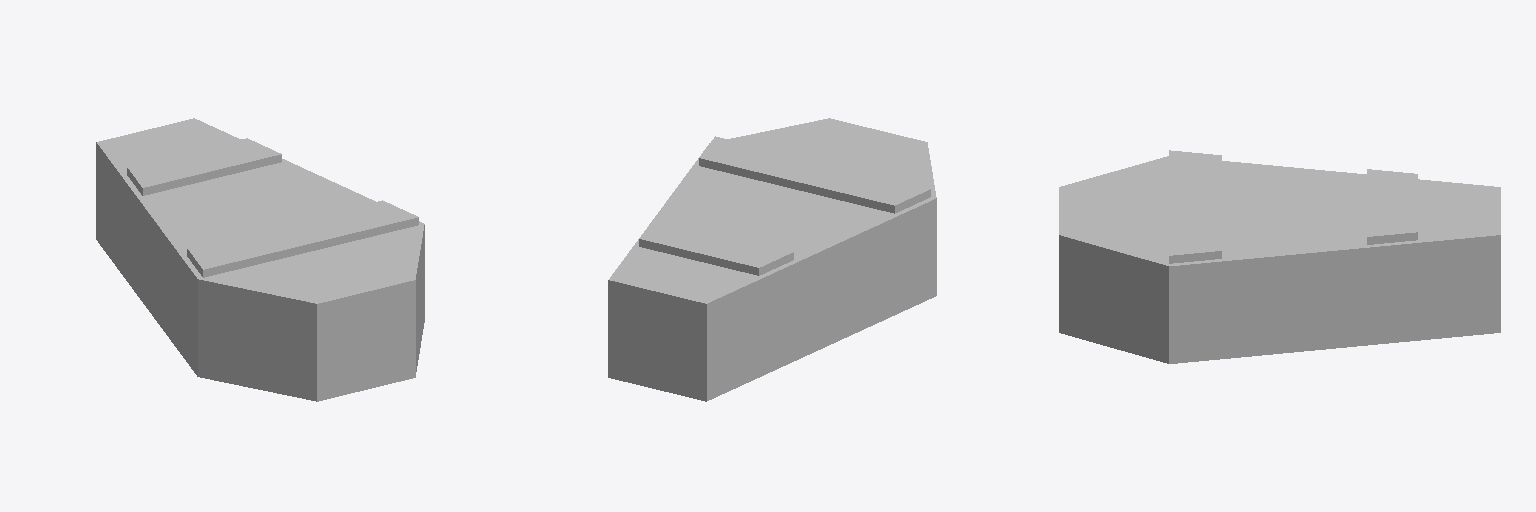
Rendered from coffin.obj.
3 views of the same model, side by side, from view 1: azimuth 30°, elevation 25°; view 2: azimuth 150°, elevation 25°; view 3: azimuth 270°, elevation 25° (orthographic).
Visible parts, largest first — view 1: coffinLid, coffin; view 2: coffinLid, coffin; view 3: coffinLid, coffin.
Part boxes in pixels (x1,y1,x2,y2): coffinLid: (96,118,424,319); coffin: (96,158,424,401); coffinLid: (608,118,936,319); coffin: (608,214,936,401); coffinLid: (1059,150,1500,281); coffin: (1059,251,1500,363).
Bounding box in the file's own units: 5.93 × 2.64 × 10.